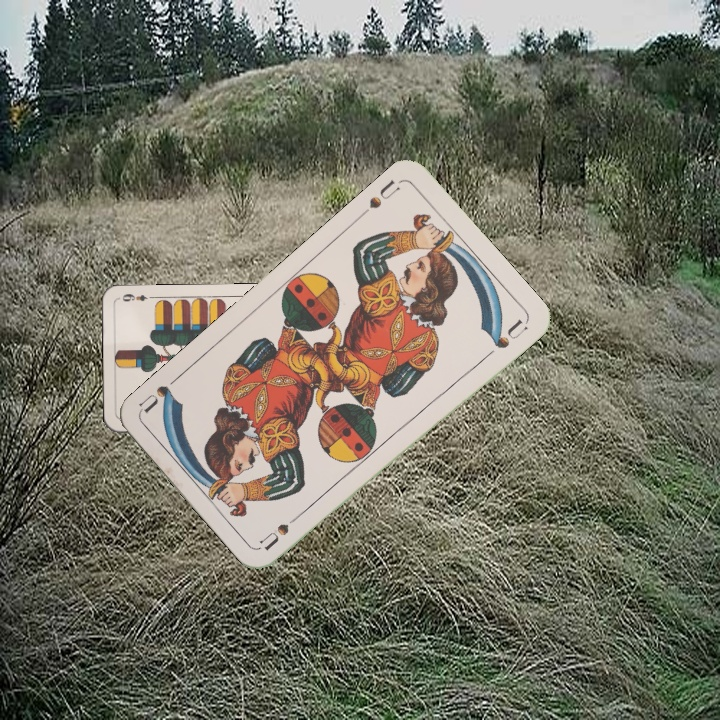SU: (257, 506, 308, 554), (365, 175, 403, 211)
